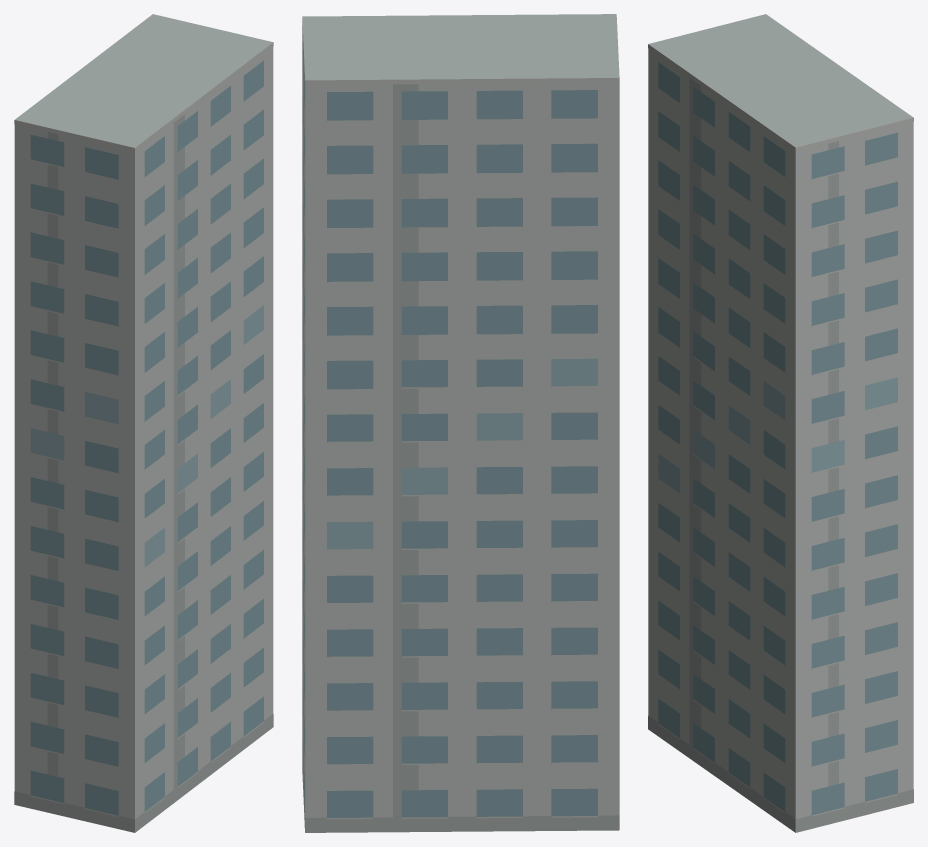
Rendered from residential-c660fb9d-65a1-4907-a161-d3a5cea45d5a.glb.
The picture shows the model from 3 angles, left to right: view 1: azimuth 30°, elevation 25°; view 2: azimuth 150°, elevation 25°; view 3: azimuth 270°, elevation 25°; orthographic projection. The views are drawn at different scales.
Visible parts, largest first — view 1: residential-c660fb9d-65a1-4907-a161-d3a5cea45d5a.tmp; view 2: residential-c660fb9d-65a1-4907-a161-d3a5cea45d5a.tmp; view 3: residential-c660fb9d-65a1-4907-a161-d3a5cea45d5a.tmp.
Part boxes in pixels (x1,y1,x2,y2): residential-c660fb9d-65a1-4907-a161-d3a5cea45d5a.tmp: (14,14,273,832); residential-c660fb9d-65a1-4907-a161-d3a5cea45d5a.tmp: (302,14,619,832); residential-c660fb9d-65a1-4907-a161-d3a5cea45d5a.tmp: (648,14,913,832).
Size of the model in its own units: 16.33 by 39 by 13.71.
